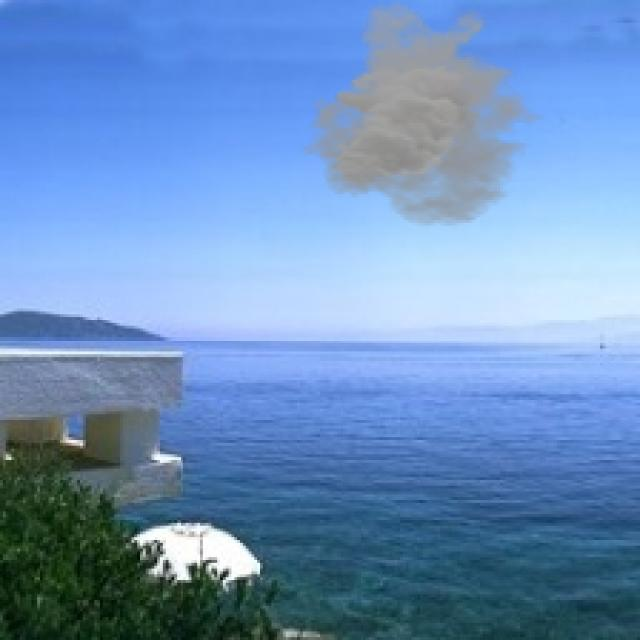smoke: (300, 0, 551, 229)
